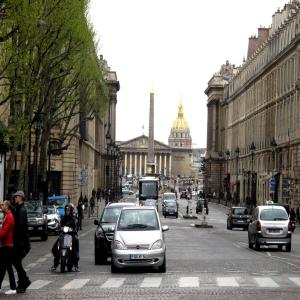Vehicle-registration-plate: (130, 255, 146, 261), (270, 231, 281, 234), (29, 228, 34, 231), (171, 214, 175, 215)
